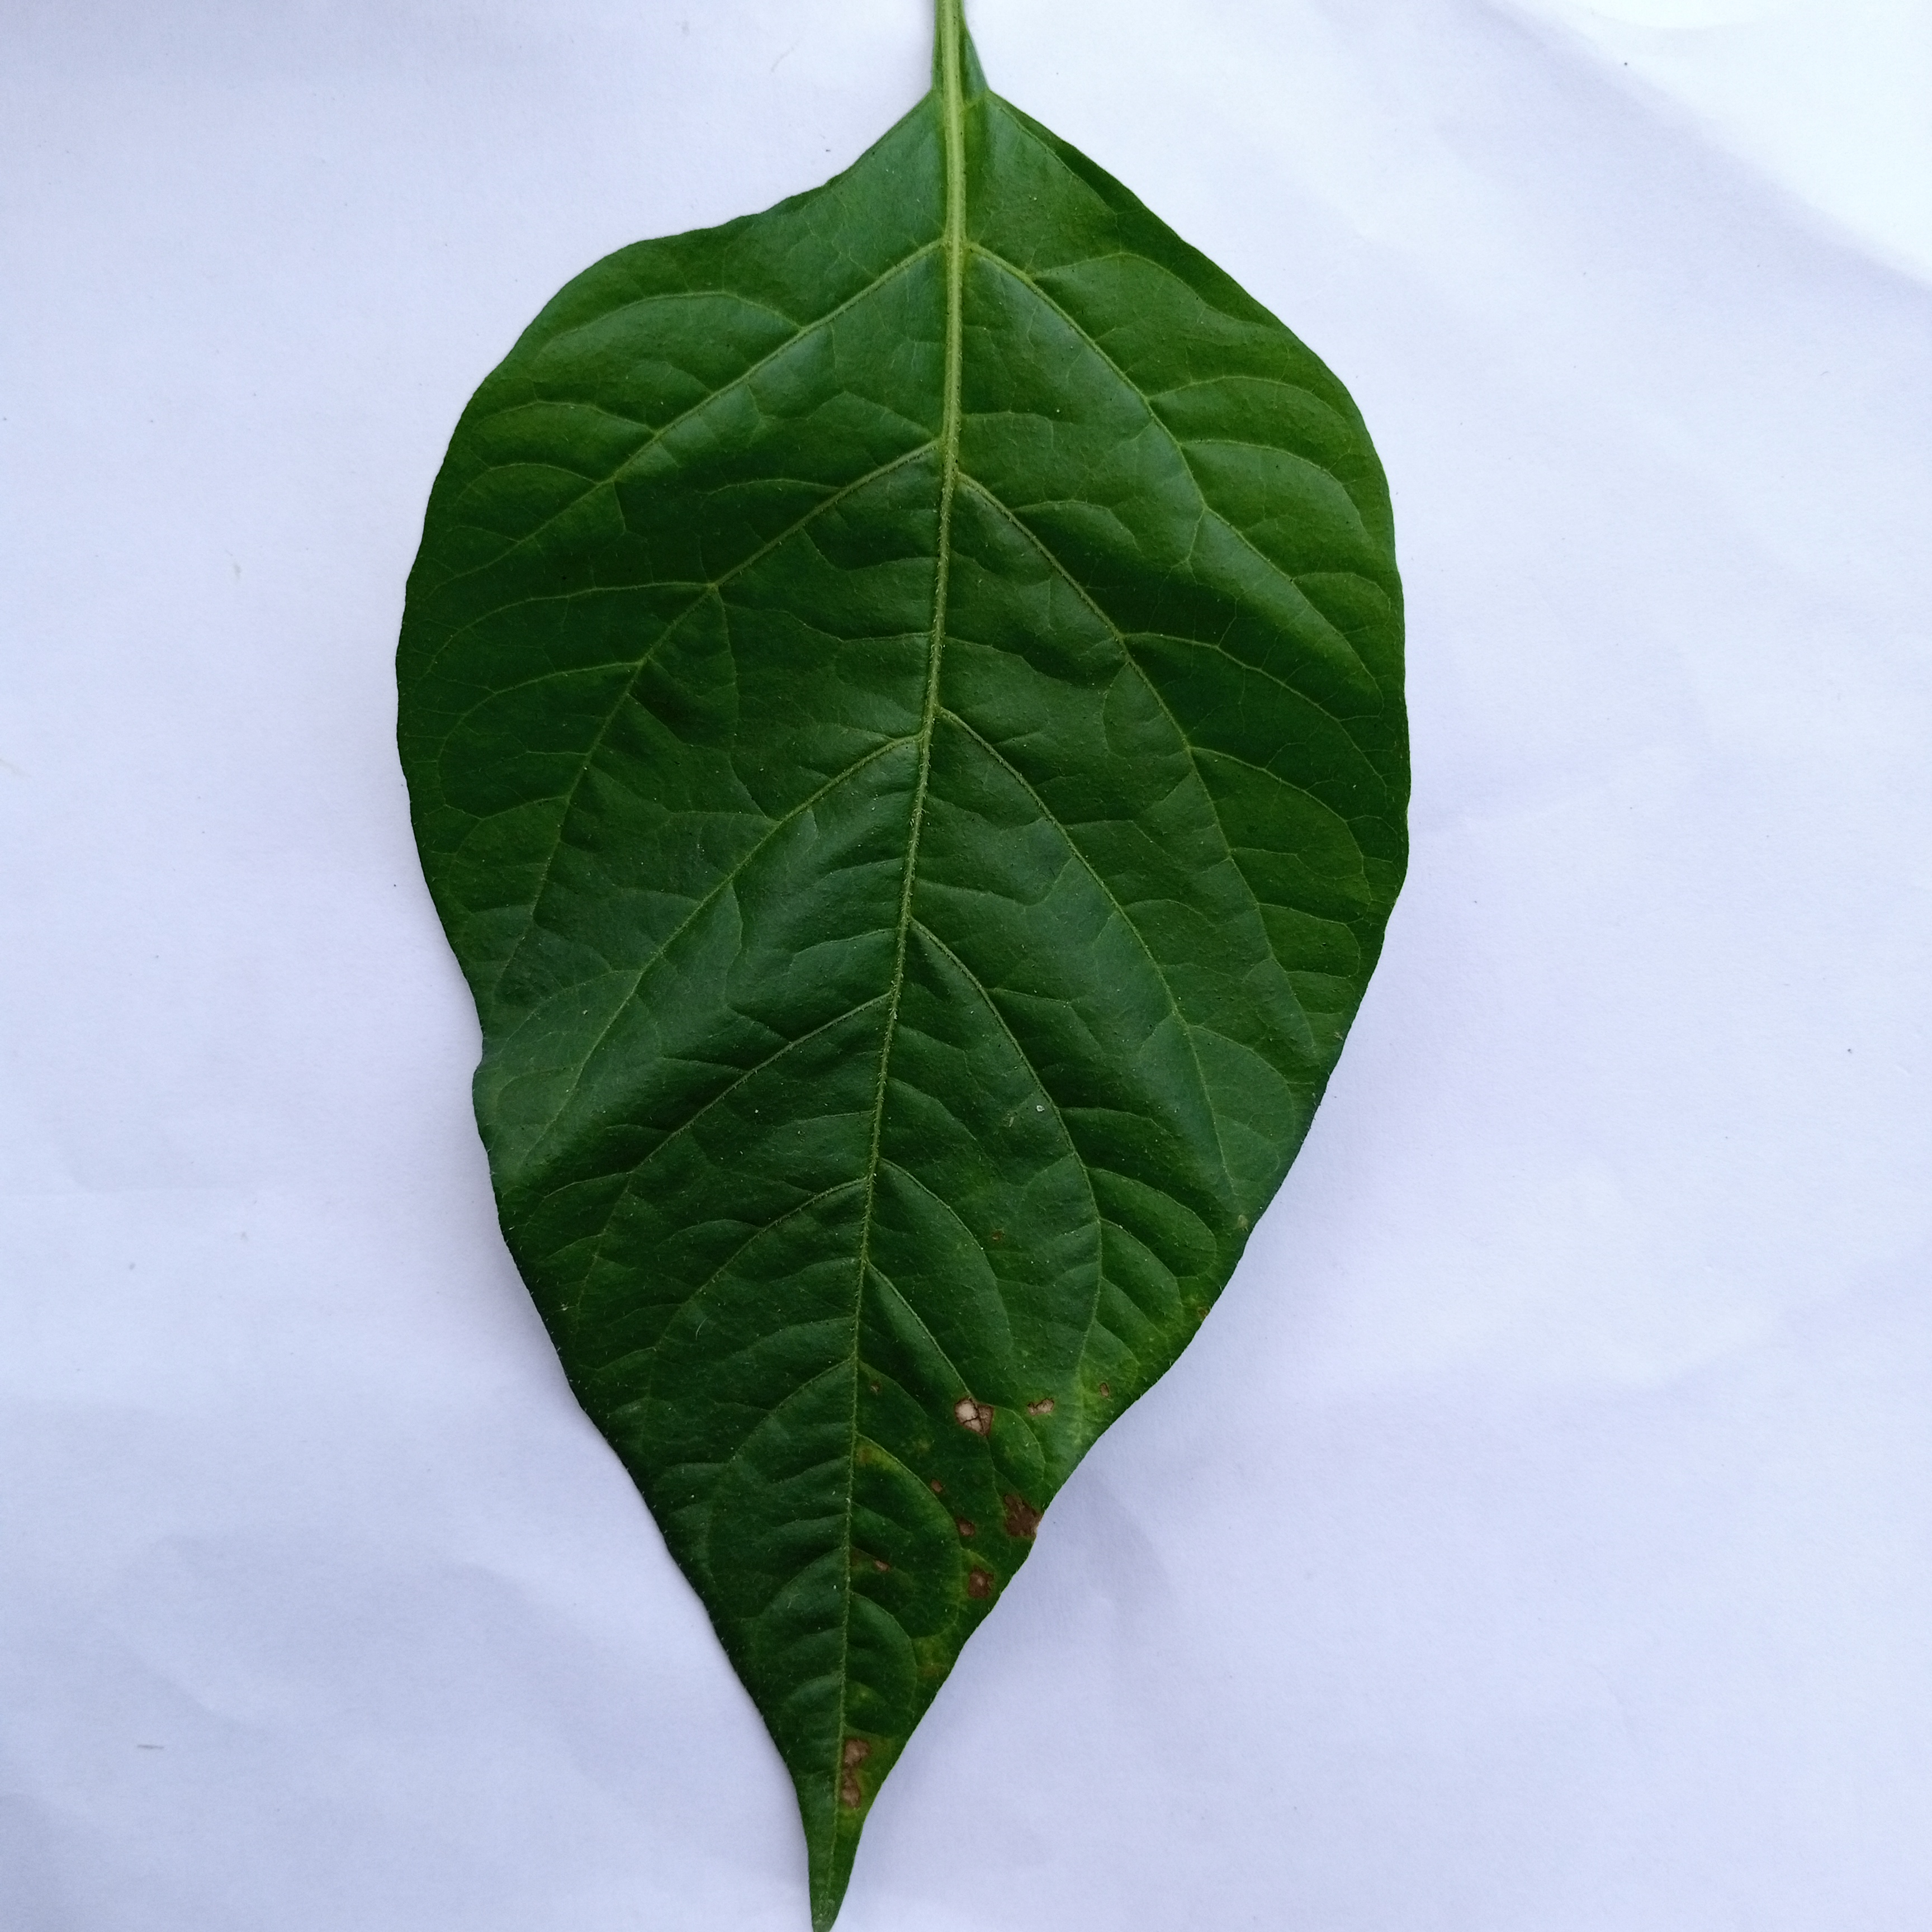Leaf: (306, 88, 1539, 1932)
